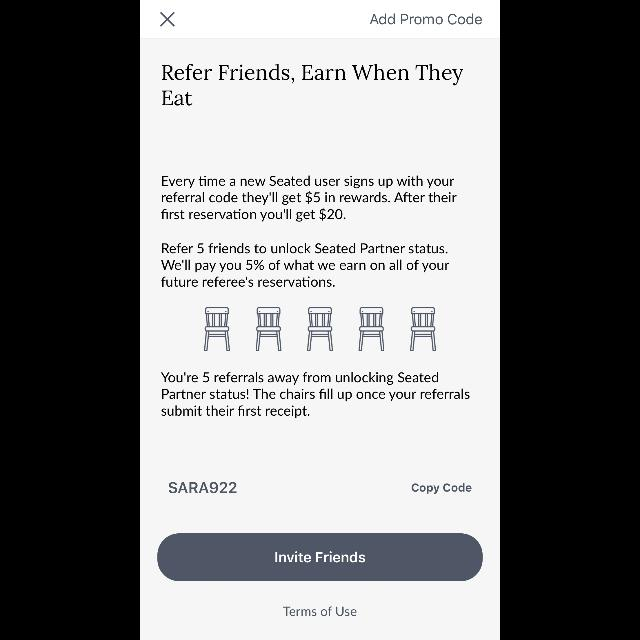icon: (160, 12, 176, 26)
image: (204, 307, 230, 351), (256, 307, 282, 351), (307, 307, 333, 351), (359, 307, 385, 351), (410, 307, 436, 351)
text: (162, 372, 470, 418), (162, 176, 456, 222), (162, 64, 464, 106), (161, 243, 449, 287), (370, 13, 482, 24), (169, 482, 237, 494), (284, 606, 356, 616), (412, 484, 472, 494)
textbutton: (158, 533, 482, 581)
